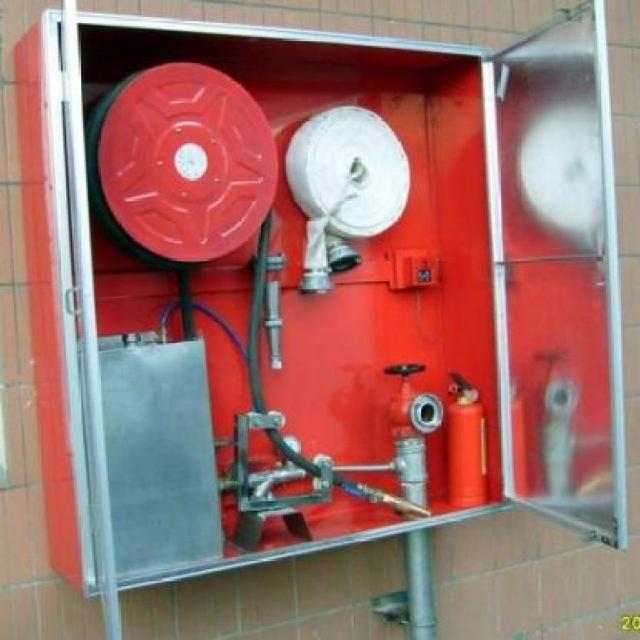firehydrant: (9, 0, 635, 608)
